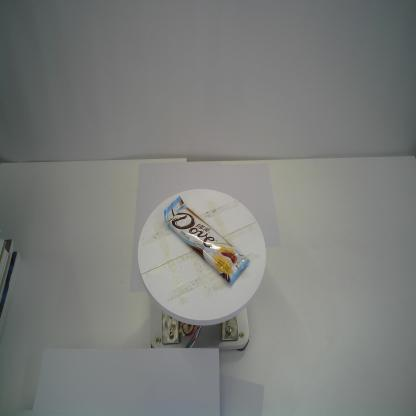Chocolate: (163, 194, 252, 288)
